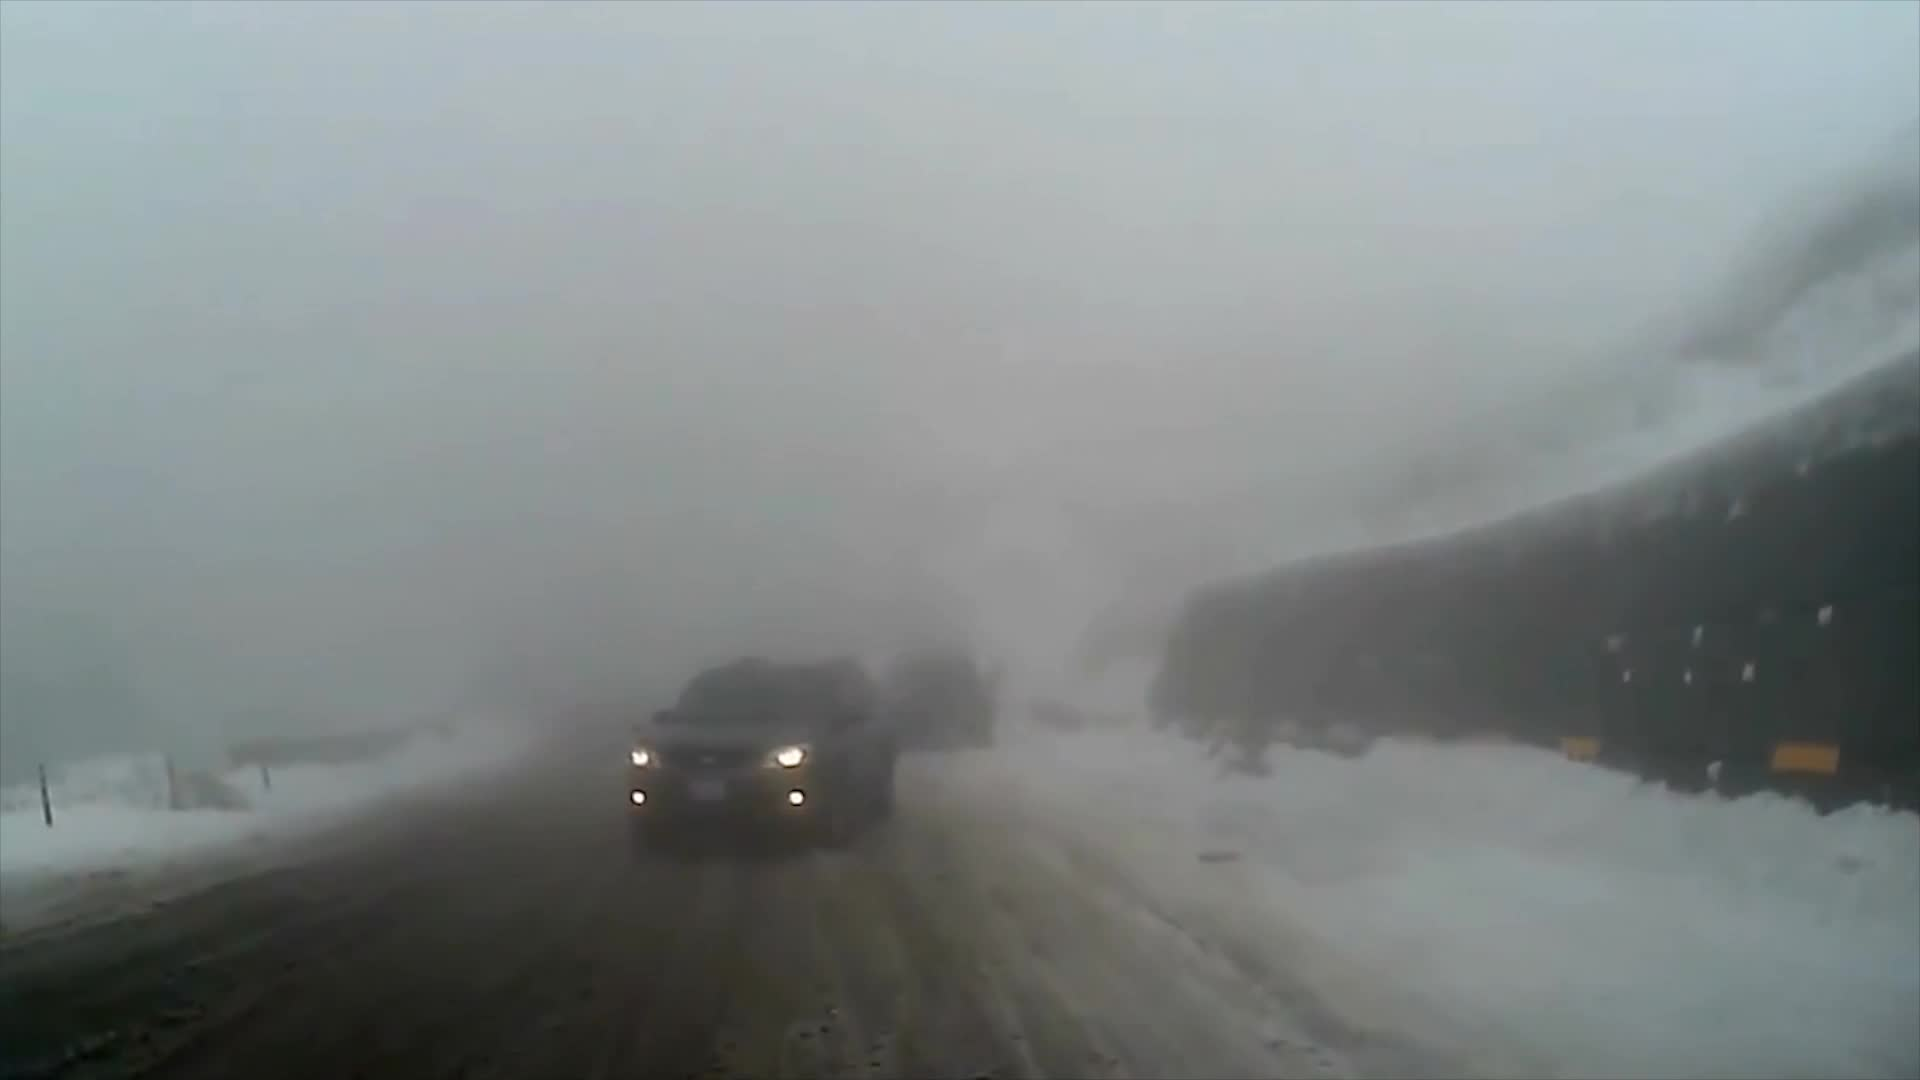vehicle: (622, 655, 897, 857)
